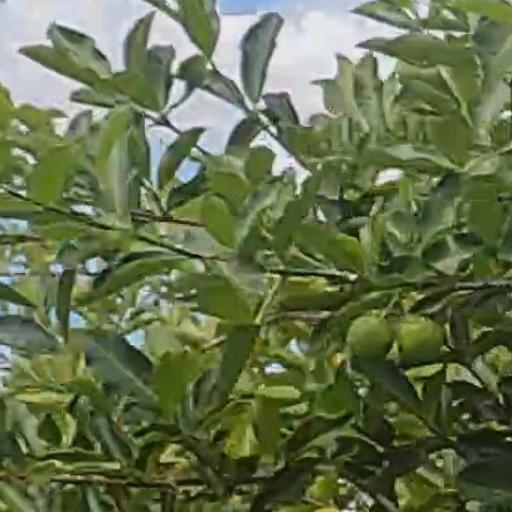acerola_verde: (345, 314, 394, 359), (398, 319, 445, 363)
